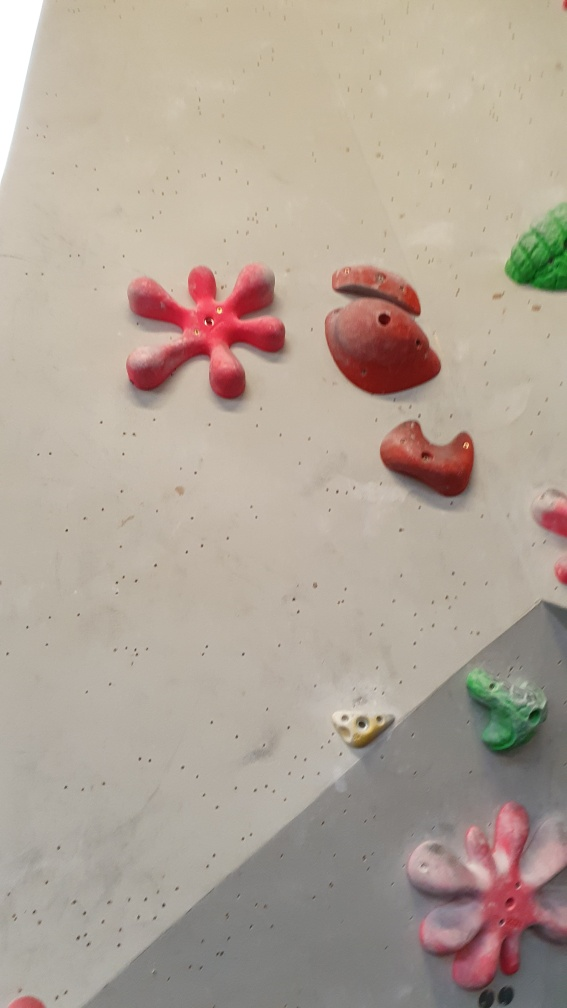Octopus Pinch: (403, 800, 567, 994), (121, 259, 288, 398)
